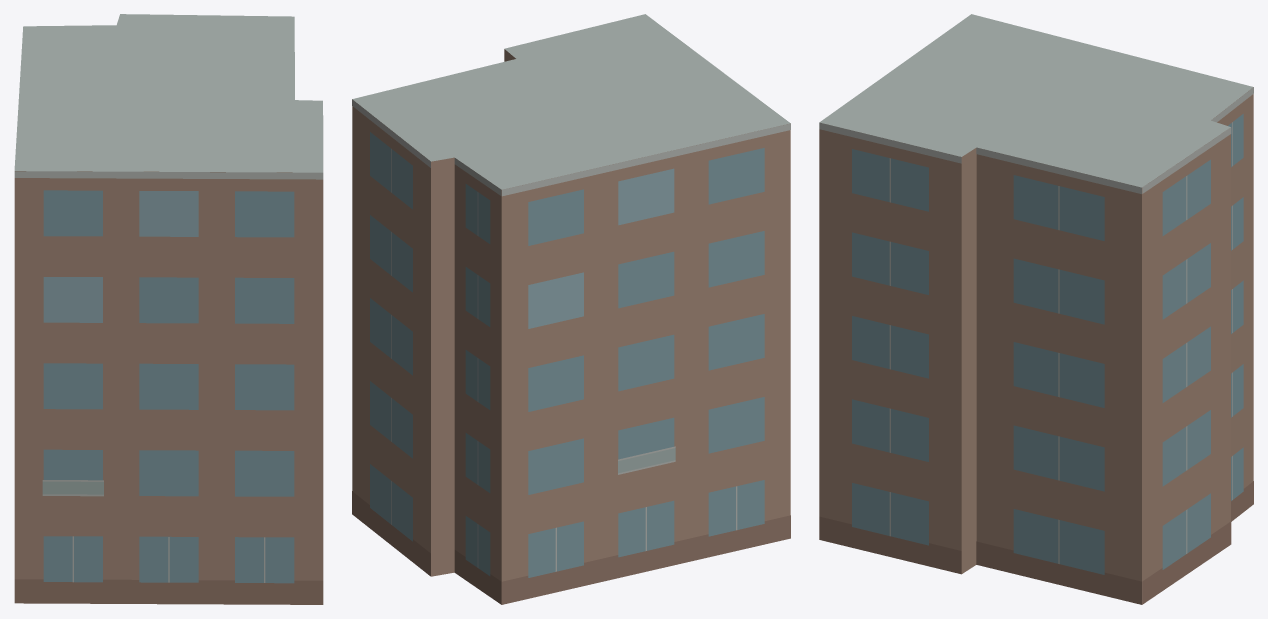
The model's file is survey-upis-32981674.glb.
3 renders of one model, left to right at view 1: azimuth 30°, elevation 25°; view 2: azimuth 150°, elevation 25°; view 3: azimuth 270°, elevation 25°, orthographic. The views are drawn at different scales.
Visible parts, largest first — view 1: survey-upis-32981674.tmp; view 2: survey-upis-32981674.tmp; view 3: survey-upis-32981674.tmp.
Part boxes in pixels (<box>): survey-upis-32981674.tmp: <box>14,14,323,604</box>; survey-upis-32981674.tmp: <box>352,14,790,604</box>; survey-upis-32981674.tmp: <box>819,14,1253,604</box>.
Bounding box in the file's own units: 13.61 × 15.25 × 14.4.
